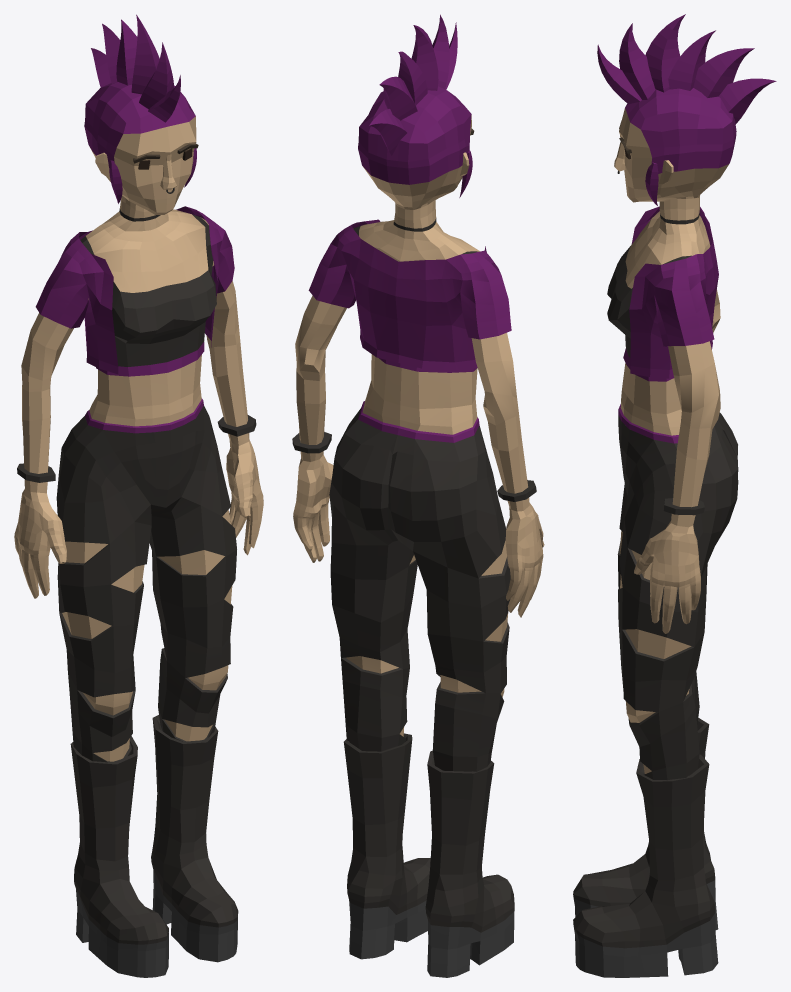
The model's file is punk-woman.glb.
The picture shows the model from 3 angles, left to right: view 1: azimuth 30°, elevation 25°; view 2: azimuth 150°, elevation 25°; view 3: azimuth 270°, elevation 25°; orthographic projection.
Visible parts, largest first — view 1: Punk_Legs, Punk_Body, Punk_Feet, Punk_Head; view 2: Punk_Legs, Punk_Body, Punk_Feet, Punk_Head; view 3: Punk_Body, Punk_Legs, Punk_Feet, Punk_Head.
Part boxes in pixels (<box>): Punk_Legs: <box>56,405,236,762</box>; Punk_Body: <box>14,206,263,598</box>; Punk_Feet: <box>70,715,238,977</box>; Punk_Head: <box>84,14,198,221</box>; Punk_Legs: <box>329,408,510,771</box>; Punk_Body: <box>292,219,544,617</box>; Punk_Feet: <box>343,733,514,977</box>; Punk_Head: <box>358,14,474,231</box>; Punk_Body: <box>607,206,720,633</box>; Punk_Legs: <box>617,412,738,780</box>; Punk_Feet: <box>573,718,718,977</box>; Punk_Head: <box>597,14,776,224</box>.
Size of the model in its own units: 0.5207 by 1.95 by 0.386.
